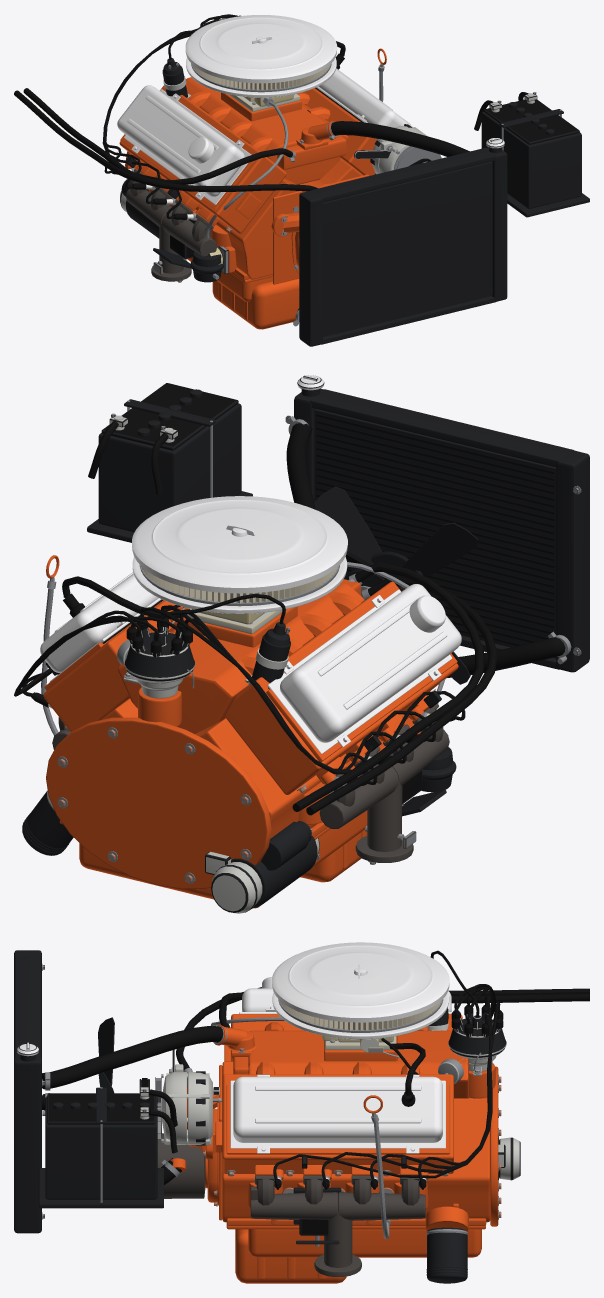
File: motor.glb
3 renders of one model, top to bottom at view 1: azimuth 30°, elevation 25°; view 2: azimuth 150°, elevation 25°; view 3: azimuth 270°, elevation 25°, orthographic. The views are drawn at different scales.
Visible parts, largest first — view 1: radiador, filtro-aire, bateria, tapa-valvulas-der, multiple-admision, bloque, mangueras, tapa-cilindros-der, carter, multiple-escape-der, tapa-valvulas-izq, cables-bujias (+9 smaller); view 2: radiador, bloque, filtro-aire, bateria, tapa-valvulas-der, multiple-admision, tapa-cilindros-der, mangueras, cables-bujias, multiple-escape-der, motor-arranque, ventilador (+10 smaller); view 3: tapa-valvulas-izq, filtro-aire, bateria, radiador, bloque, multiple-admision, multiple-escape-izq, carter, tapa-cilindros-izq, cables-bujias, alternador, mangueras (+13 smaller).
Boxes of the visible parts, <box> form: radiador: <box>293,121,507,346</box>; filtro-aire: <box>185,15,337,97</box>; bateria: <box>474,92,589,217</box>; tapa-valvulas-der: <box>117,85,251,204</box>; multiple-admision: <box>186,77,348,184</box>; bloque: <box>125,151,369,284</box>; mangueras: <box>14,41,345,238</box>; tapa-cilindros-der: <box>119,85,286,233</box>; carter: <box>187,257,299,329</box>; multiple-escape-der: <box>126,169,217,282</box>; tapa-valvulas-izq: <box>315,53,412,127</box>; cables-bujias: <box>102,14,240,219</box>; radiador: <box>285,375,589,678</box>; bloque: <box>46,698,428,889</box>; filtro-aire: <box>132,496,347,613</box>; bateria: <box>87,383,252,542</box>; tapa-valvulas-der: <box>267,584,461,753</box>; multiple-admision: <box>118,578,364,733</box>; tapa-cilindros-der: <box>225,581,458,794</box>; mangueras: <box>62,562,497,815</box>; cables-bujias: <box>14,593,465,785</box>; multiple-escape-der: <box>319,703,449,864</box>; motor-arranque: <box>205,821,319,913</box>; ventilador: <box>314,486,477,684</box>; tapa-valvulas-izq: <box>230,1074,445,1153</box>; filtro-aire: <box>272,942,449,1039</box>; bateria: <box>38,1087,177,1208</box>; radiador: <box>14,950,227,1233</box>; bloque: <box>219,1061,501,1231</box>; multiple-admision: <box>233,1022,495,1098</box>; multiple-escape-izq: <box>250,1175,425,1276</box>; carter: <box>226,1222,485,1283</box>; tapa-cilindros-izq: <box>215,1074,453,1179</box>; cables-bujias: <box>273,950,503,1189</box>; alternador: <box>155,1049,221,1145</box>; mangueras: <box>176,987,589,1095</box>.
Bounding box in the file's own units: 1.09 × 0.7405 × 1.33.
